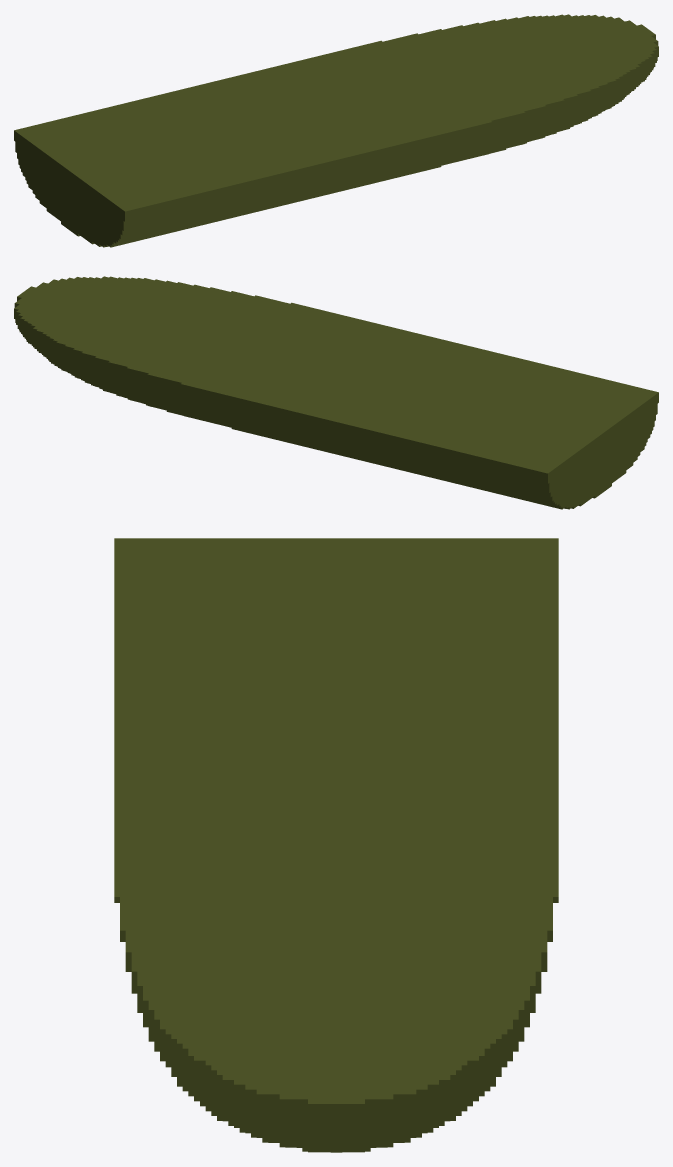
Rendered from military_transport_helicopter_belly.glb.
3 renders of one model, top to bottom at view 1: azimuth 30°, elevation 25°; view 2: azimuth 150°, elevation 25°; view 3: azimuth 270°, elevation 25°, orthographic. The views are drawn at different scales.
Visible parts, largest first — view 1: body:compound; view 2: body:compound; view 3: body:compound.
Part boxes in pixels (x1=…): body:compound: x1=14, y1=14, x2=658, y2=247; body:compound: x1=14, y1=276, x2=658, y2=509; body:compound: x1=114, y1=538, x2=558, y2=1152.
Size of the model in its own units: 7.34 by 0.7188 by 2.44.
